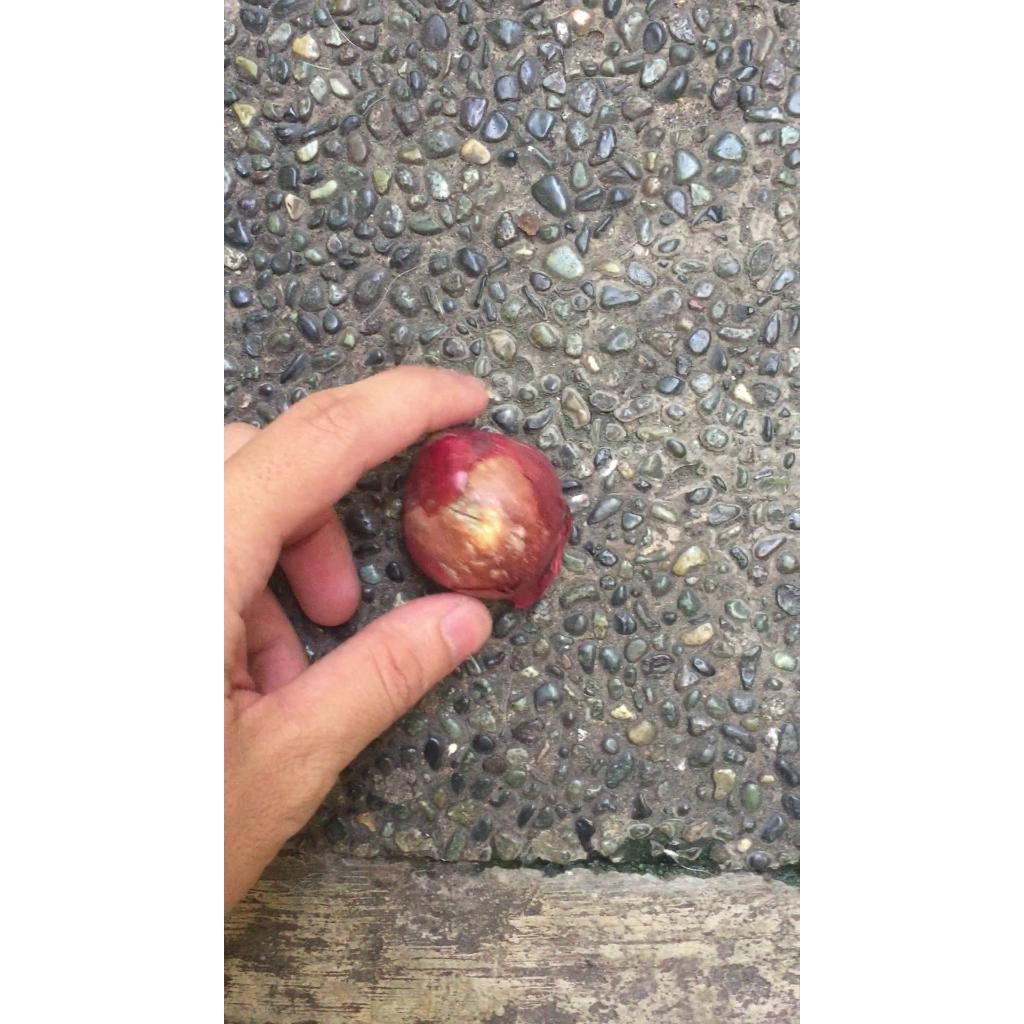Onion: (403, 427, 571, 609)
